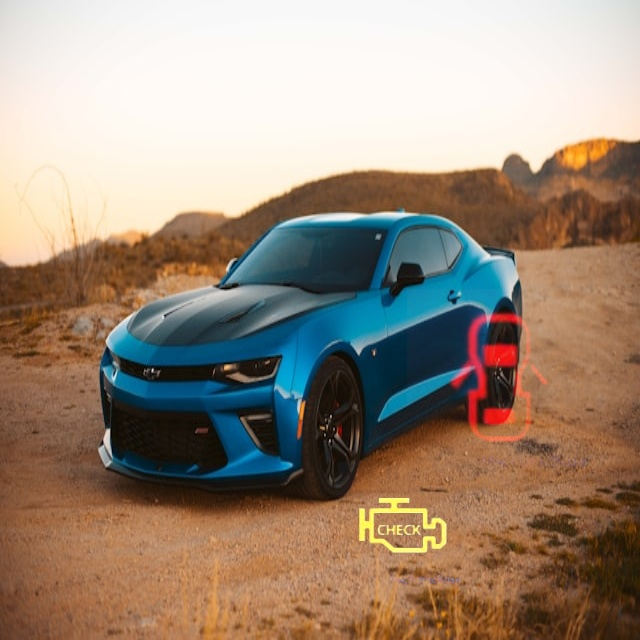symbol: (407, 289, 594, 476), (338, 462, 466, 590)
